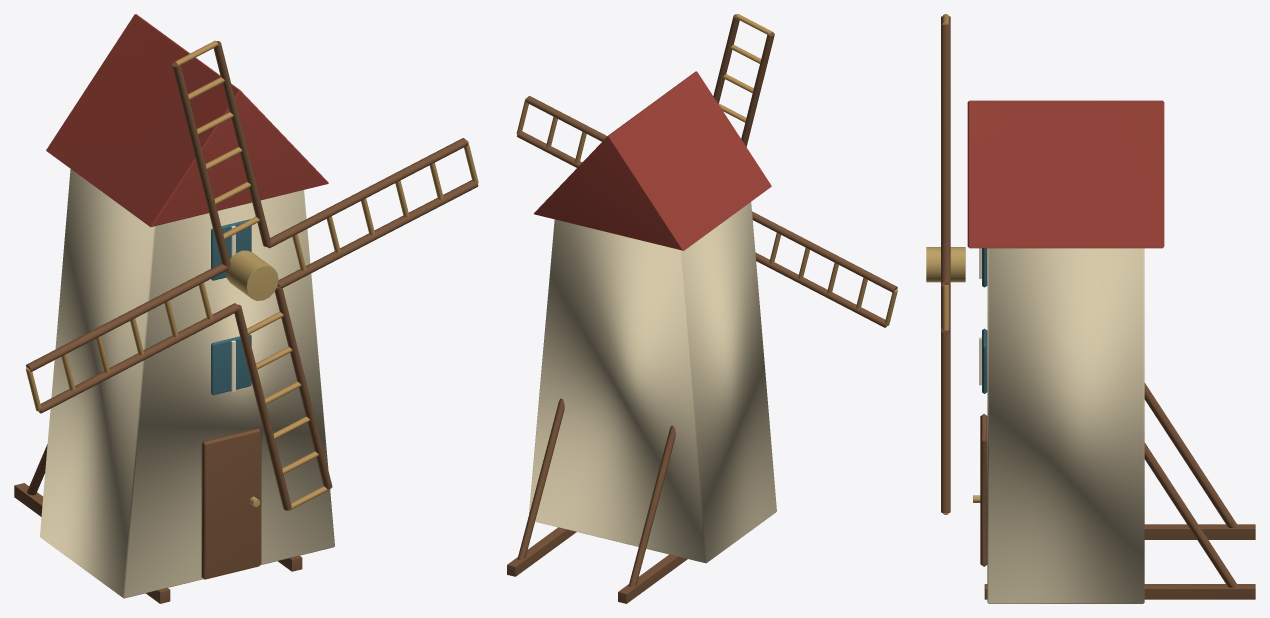
File: S100_scenic_windmill_rebuilt.glb
3 views of the same model, side by side, from view 1: azimuth 30°, elevation 25°; view 2: azimuth 150°, elevation 25°; view 3: azimuth 270°, elevation 25° (orthographic). The views are drawn at different scales.
Visible parts, largest first — view 1: Windmill_warm_plaster, red, wood, edge, glass, brass; view 2: Windmill_warm_plaster, red, wood, edge; view 3: Windmill_warm_plaster, red, wood, brass, glass.
Part boxes in pixels (bbox=[...]): Windmill_warm_plaster: bbox=[40, 169, 334, 598]; red: bbox=[46, 14, 328, 227]; wood: bbox=[14, 41, 478, 603]; edge: bbox=[25, 40, 478, 510]; glass: bbox=[211, 219, 251, 395]; brass: bbox=[225, 250, 278, 506]; Windmill_warm_plaster: bbox=[529, 202, 776, 563]; red: bbox=[534, 71, 771, 250]; wood: bbox=[507, 14, 897, 603]; edge: bbox=[516, 14, 897, 325]; Windmill_warm_plaster: bbox=[987, 248, 1144, 603]; red: bbox=[967, 100, 1164, 248]; wood: bbox=[941, 16, 1255, 599]; brass: bbox=[926, 247, 980, 502]; glass: bbox=[982, 248, 987, 393].
Bounding box in the file's own units: 2.66 × 3.21 × 1.81.
